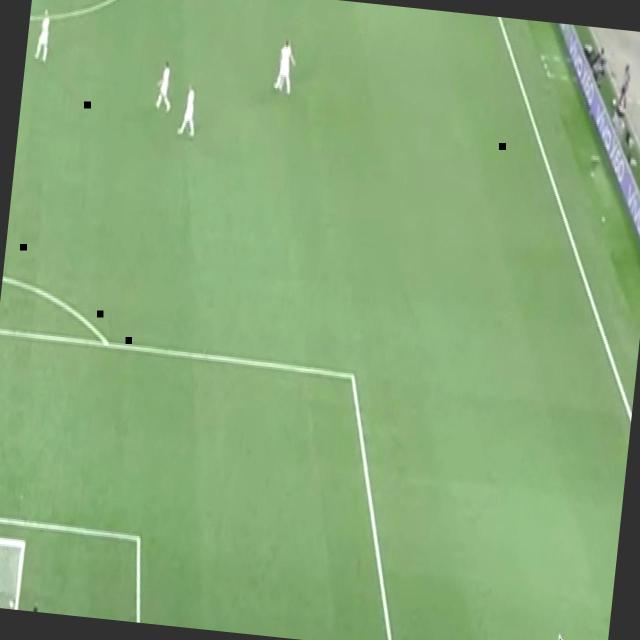ball: (612, 98, 617, 108)
player-white: (271, 37, 299, 97), (175, 80, 201, 140), (152, 58, 176, 116), (32, 6, 54, 66)
